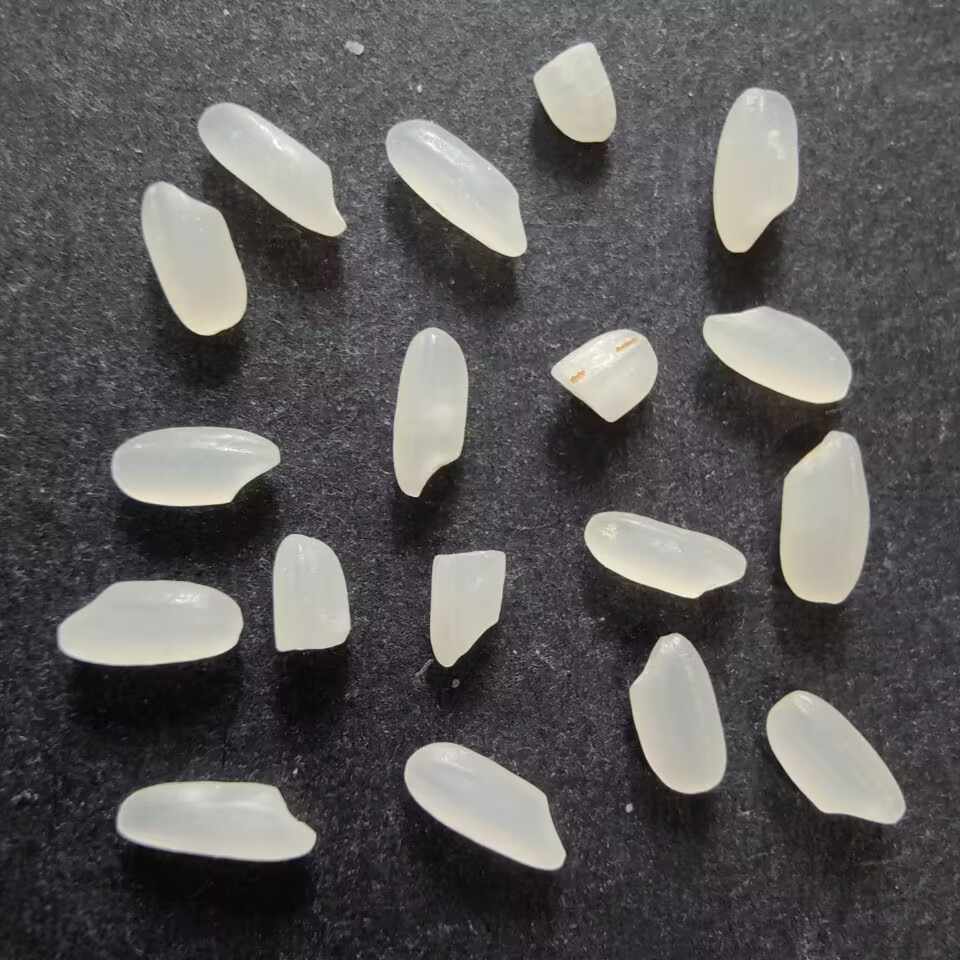broken: (545, 323, 662, 425), (268, 530, 353, 656), (427, 544, 510, 670), (530, 42, 621, 147)
rice: (397, 740, 569, 877), (192, 101, 350, 243), (381, 115, 531, 263), (761, 687, 907, 826), (620, 630, 730, 798), (774, 426, 873, 611), (139, 179, 246, 341), (111, 780, 316, 864), (55, 578, 245, 668), (697, 303, 857, 406), (709, 84, 802, 261), (581, 507, 747, 603), (107, 421, 280, 512), (390, 325, 470, 502)
